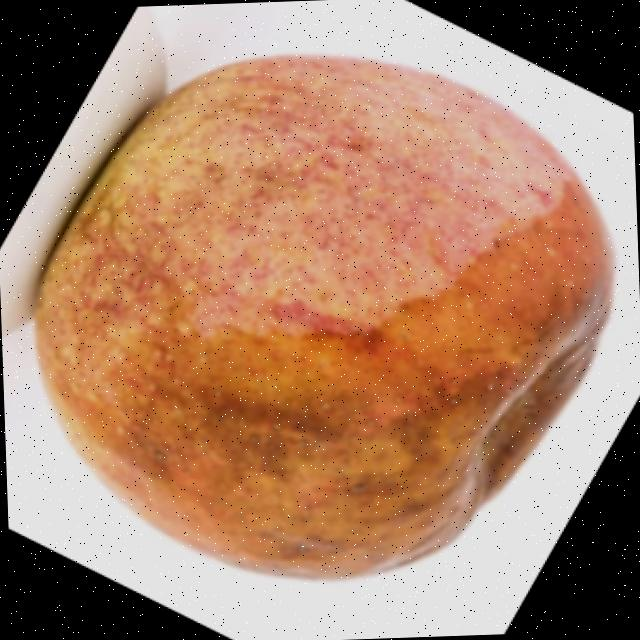Rotten: (16, 34, 635, 602)
